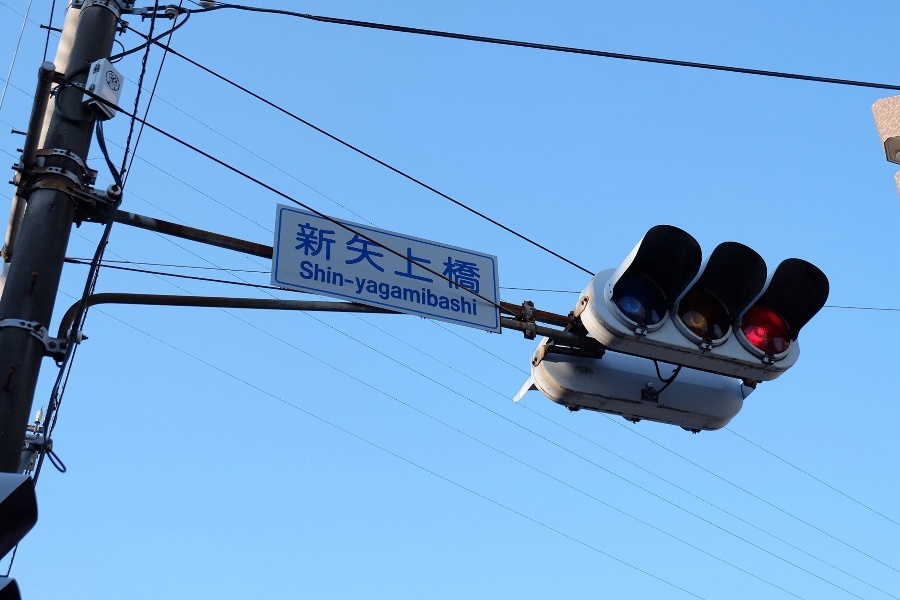text: (305, 219, 320, 299), (321, 219, 336, 299), (337, 219, 352, 299), (353, 219, 368, 299), (369, 219, 384, 299), (385, 219, 400, 299), (401, 219, 416, 299), (417, 219, 432, 299), (433, 219, 448, 299), (449, 219, 464, 299), (465, 219, 480, 299), (305, 258, 320, 320), (321, 258, 336, 320), (337, 258, 352, 320), (353, 258, 368, 320), (369, 258, 384, 320), (385, 258, 400, 320), (401, 258, 416, 320), (417, 258, 432, 320), (433, 258, 448, 320), (449, 258, 464, 320), (465, 258, 479, 320), (295, 219, 304, 299), (298, 258, 304, 320), (481, 219, 483, 299)
